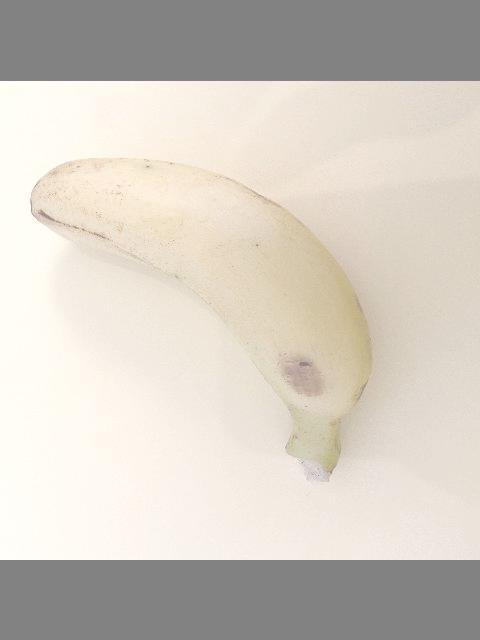banana: (29, 157, 375, 480)
